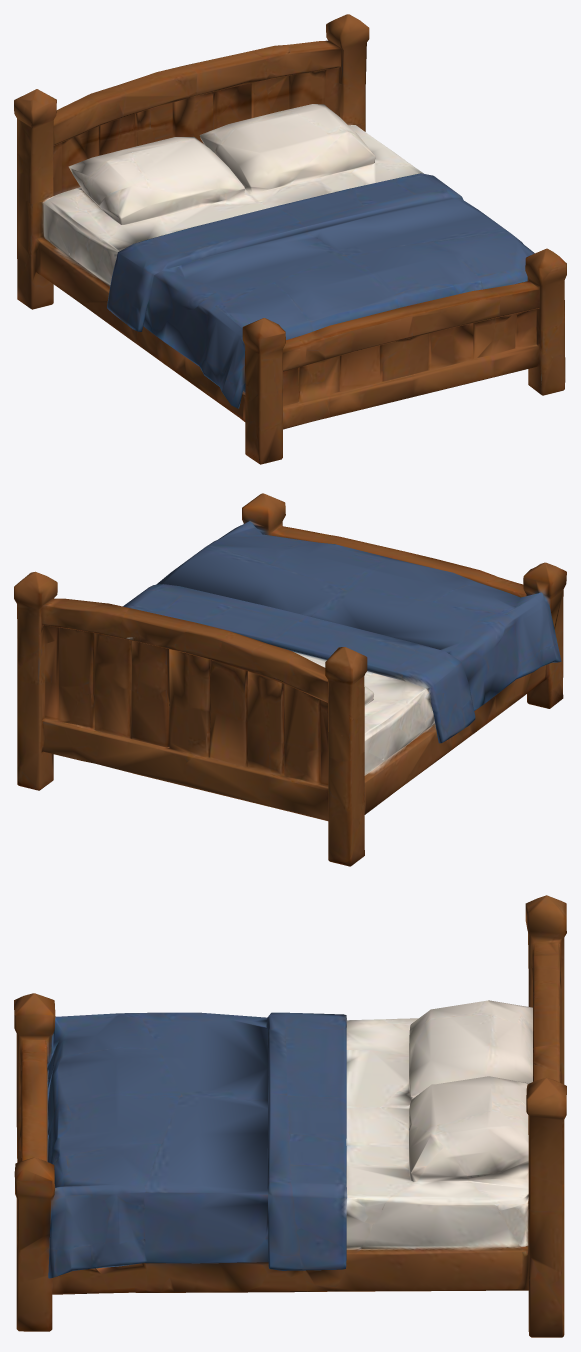
Rendered from bed_wood.glb.
3 renders of one model, top to bottom at view 1: azimuth 30°, elevation 25°; view 2: azimuth 150°, elevation 25°; view 3: azimuth 270°, elevation 25°, orthographic. The views are drawn at different scales.
Parts seen in each view (by area): view 1: prop; view 2: prop; view 3: prop.
Part boxes in pixels (bbox=[...]): prop: bbox=[14, 14, 566, 464]; prop: bbox=[14, 493, 566, 866]; prop: bbox=[14, 895, 566, 1337].
Size of the model in its own units: 1.66 by 1 by 1.95.
Materials: 1 (1 with a texture image).
